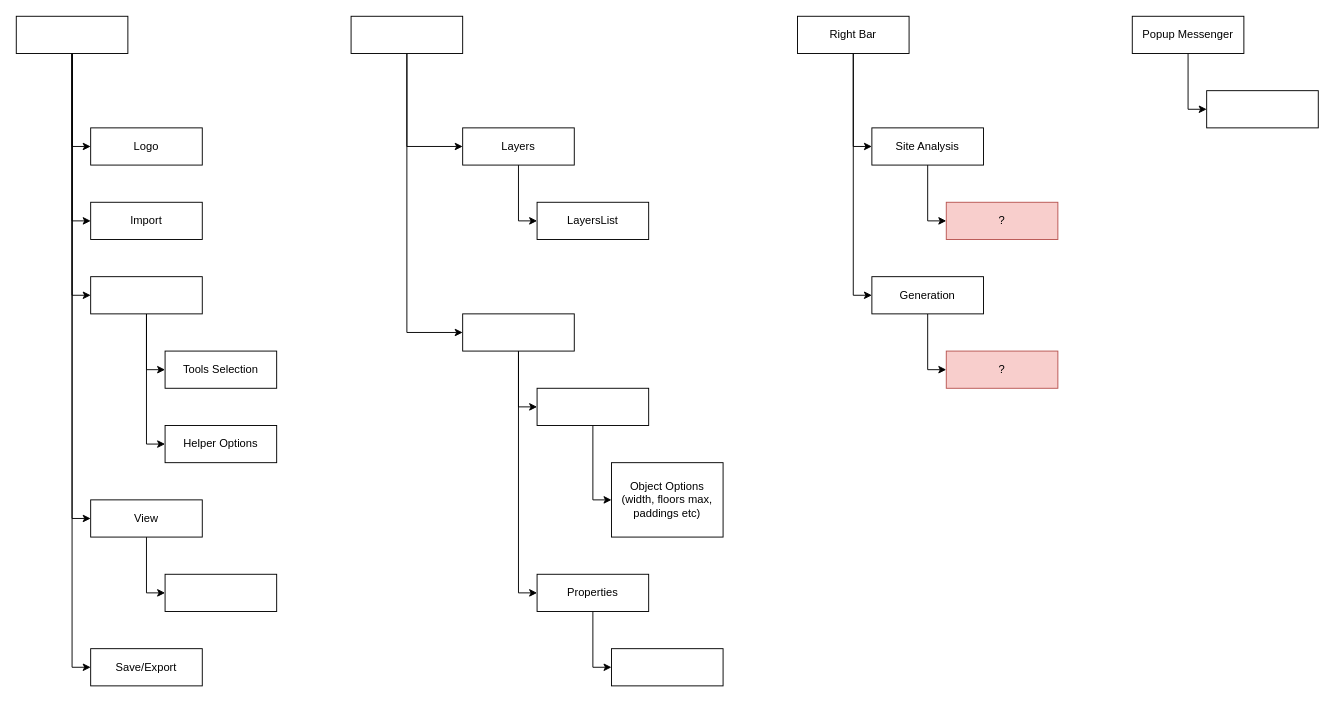
Some shapes in this 1335 by 702 pixel diagram are drawn without their labels. Each missing label, with the centre of its shape:
"Adjust" belongs at (x=592, y=406).
"Camera Options" belongs at (x=220, y=592).
"Errors, warnings, loading etc" belongs at (x=1262, y=109).
"Left Bar" belongs at (x=406, y=34).
"Object Properties" belongs at (x=667, y=667).
"Selection" belongs at (x=518, y=332).
"Tools" belongs at (x=146, y=295).
"Top Bar" belongs at (x=71, y=34).
